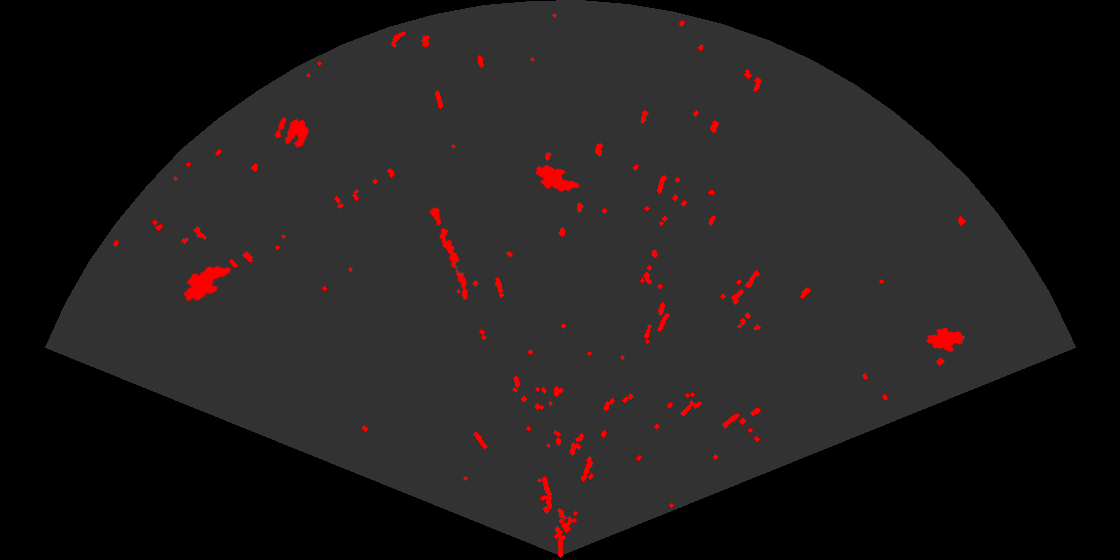AUV: (182, 264, 233, 303), (534, 163, 581, 193), (925, 326, 966, 354)
ball: (273, 115, 310, 149)
chain: (428, 205, 470, 302)
